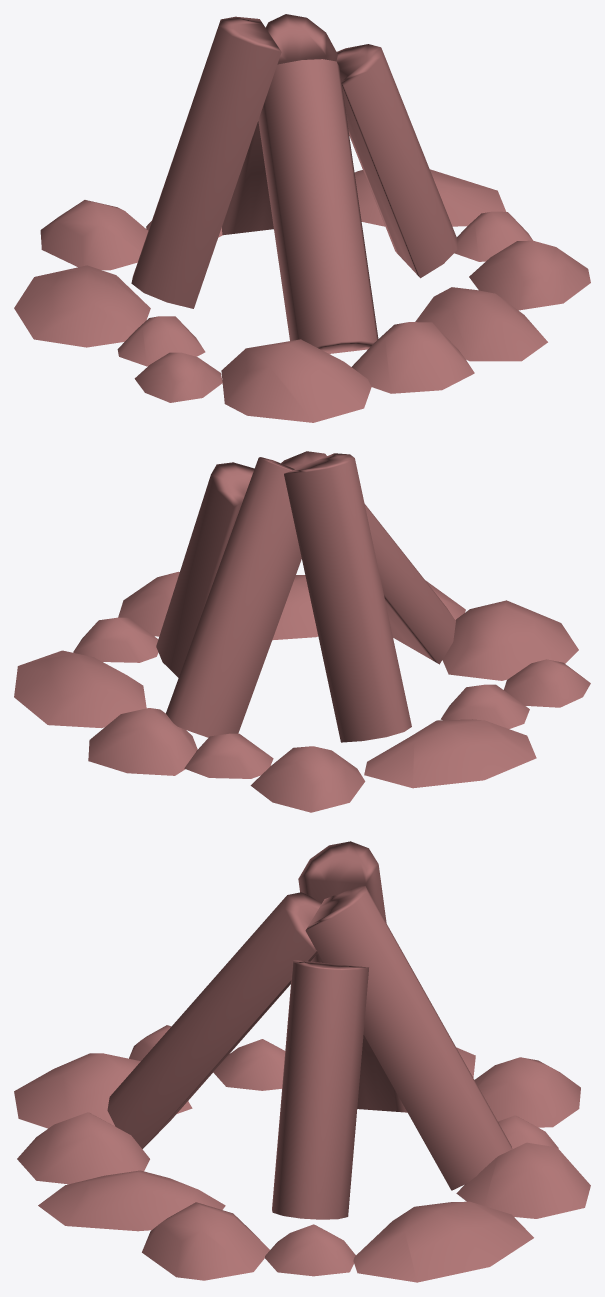
Rendered from SM_Campfire.fbx.
The picture shows the model from 3 angles, top to bottom: view 1: azimuth 30°, elevation 25°; view 2: azimuth 150°, elevation 25°; view 3: azimuth 270°, elevation 25°; orthographic projection. The views are drawn at different scales.
Visible parts, largest first — view 1: SM_Campfire; view 2: SM_Campfire; view 3: SM_Campfire.
Part boxes in pixels (x1=…): SM_Campfire: x1=14, y1=14, x2=590, y2=422; SM_Campfire: x1=14, y1=451, x2=590, y2=812; SM_Campfire: x1=14, y1=841, x2=590, y2=1282.
Size of the model in its own units: 65.36 by 33.49 by 61.18.
